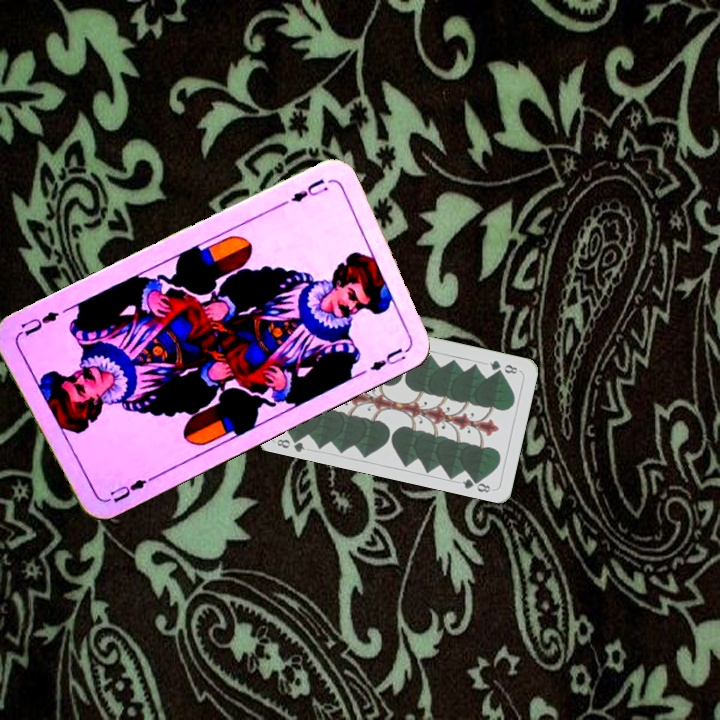EU: (98, 473, 155, 506), (286, 175, 332, 205)
G8: (273, 432, 307, 454), (485, 356, 520, 376)
